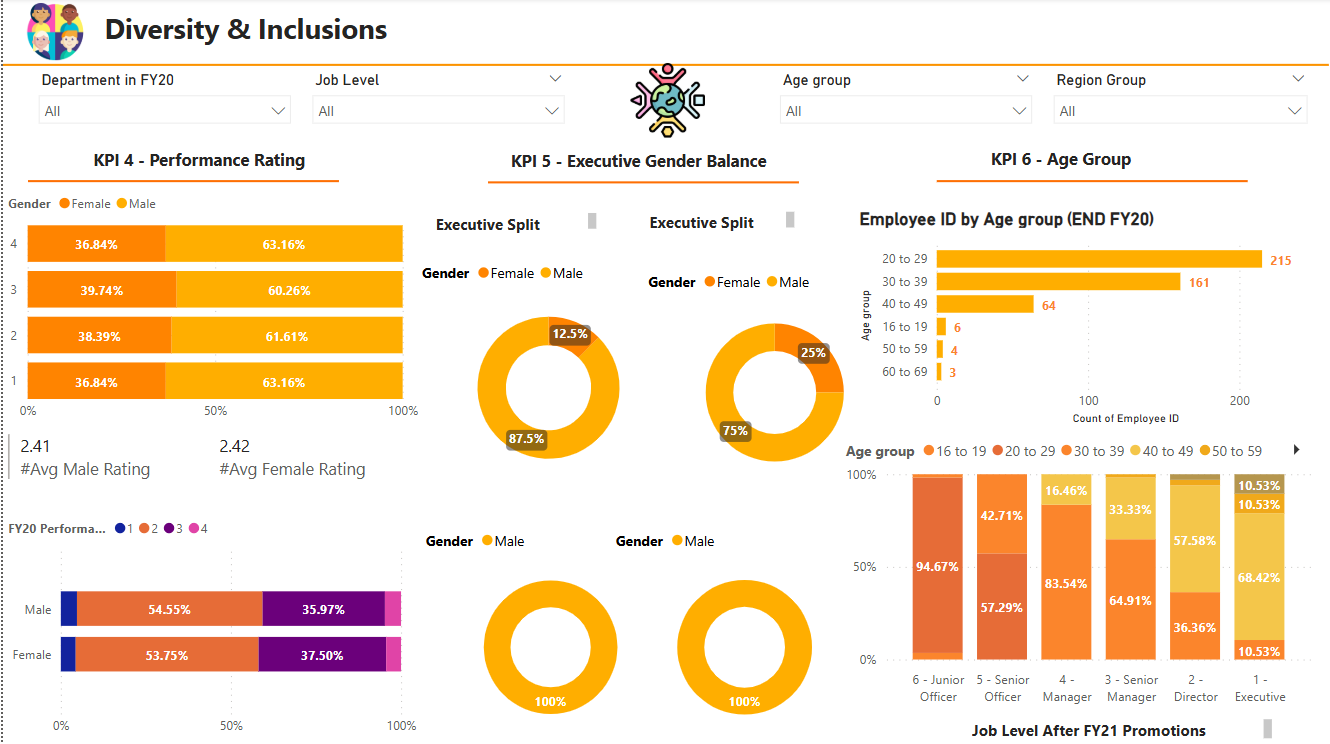

The page's visual inventory and layout, read from the dashboard file:
{"tool":"powerbi","page":{"name":"Page 2","canvas":[1280,720],"ordinal":1},"visuals":[{"type":"textbox","box":[49.7,0,1179.8,51],"z":0},{"type":"slicer","fields":{"Values":["Pharma Group AG.Last Department in FY20"]},"box":[24.7,64.8,263.8,64.8],"z":1000},{"type":"slicer","fields":{"Values":["Pharma Group AG.Job Level after FY21 promotions"]},"box":[288.5,64.8,263.8,64.8],"z":2000},{"type":"slicer","fields":{"Values":["Pharma Group AG.Age group"]},"box":[739.1,64.8,263.8,64.8],"z":3000},{"type":"slicer","fields":{"Values":["Pharma Group AG.Broad region group: nationality 1"]},"box":[1002.9,64.8,265.4,64.8],"z":4000},{"type":"textbox","box":[81.8,140.4,240.7,38.6],"z":5000},{"type":"hundredPercentStackedBarChart","fields":{"Category":["Pharma Group AG.FY20 Performance Rating"],"Y":["CountNonNull(Pharma Group AG.Employee ID)"],"Series":["Pharma Group AG.Gender"]},"box":[0,179,405.8,237.6],"z":6000},{"type":"textbox","box":[452.1,140.4,268.5,38.6],"z":7000},{"type":"textbox","box":[901.1,146.6,203.7,40.1],"z":8000},{"type":"multiRowCard","fields":{"Values":["Pharma Group AG.#Avg Male Rating","Pharma Group AG.#Avg Female Rating"]},"box":[0,416.6,405.8,61.7],"z":9000},{"type":"hundredPercentStackedBarChart","fields":{"Category":["Pharma Group AG.Gender"],"Series":["Pharma Group AG.FY20 Performance Rating"],"Y":["CountNonNull(Pharma Group AG.Employee ID)"]},"box":[0,492.2,404.2,228.4],"z":10000},{"type":"donutChart","fields":{"Y":["Divide(CountNonNull(Pharma Group AG.Employee ID), ScopedEval(CountNonNull(Pharma Group AG.Employee ID), []))"],"Series":["Pharma Group AG.Gender"]},"box":[399.6,245.3,254.6,233],"z":11000},{"type":"donutChart","fields":{"Y":["Divide(CountNonNull(Pharma Group AG.Employee ID), ScopedEval(CountNonNull(Pharma Group AG.Employee ID), []))"],"Series":["Pharma Group AG.Gender"]},"box":[617.2,253,254.6,225.3],"z":12000},{"type":"donutChart","fields":{"Series":["Pharma Group AG.Gender"],"Y":["CountNonNull(Pharma Group AG.Employee ID)"]},"box":[402.7,503,251.5,217.6],"z":13000},{"type":"donutChart","fields":{"Y":["Divide(CountNonNull(Pharma Group AG.Employee ID), ScopedEval(CountNonNull(Pharma Group AG.Employee ID), []))"],"Series":["Pharma Group AG.Gender"]},"box":[586.3,503,259.2,217.6],"z":14000},{"type":"textbox","box":[412,202.1,165.1,30.9],"z":15000},{"type":"textbox","box":[640.3,186.7,149.7,30.9],"z":16000},{"type":"barChart","title":"Employee ID by Age group (END FY20)","fields":{"Y":["CountNonNull(Pharma Group AG.Employee ID)"],"Category":["Pharma Group AG.Age group"]},"box":[820.8,202.1,459.8,214.5],"z":17000},{"type":"hundredPercentStackedColumnChart","title":"Employee ID by Age group (END FY20)","fields":{"Category":["Pharma Group AG.Job Level after FY21 promotions"],"Y":["CountNonNull(Pharma Group AG.Employee ID)"],"Series":["Pharma Group AG.Age group"]},"box":[808.5,416.6,459.8,273.1],"z":18000},{"type":"textbox","box":[930.4,691.2,299.3,29.3],"z":19000},{"type":"shape","box":[0,39.8,1279.6,25.3],"z":20000},{"type":"image","box":[578.9,57.9,124.2,82],"z":20001}]}

Visuals, with their boxes in screenshot pixels (x1, y1, x2, y2), scaled from the page's 1280x720 canvas onto the 1330x744 screenshot:
textbox: bbox=[52, 0, 1278, 53]
slicer - Pharma Group AG.Last Department in FY20: bbox=[26, 67, 300, 134]
slicer - Pharma Group AG.Job Level after FY21 promotions: bbox=[300, 67, 574, 134]
slicer - Pharma Group AG.Age group: bbox=[768, 67, 1042, 134]
slicer - Pharma Group AG.Broad region group: nationality 1: bbox=[1042, 67, 1318, 134]
textbox: bbox=[85, 145, 335, 185]
hundredPercentStackedBarChart - Pharma Group AG.FY20 Performance Rating x CountNonNull(Pharma Group AG.Employee ID): bbox=[0, 185, 422, 430]
textbox: bbox=[470, 145, 749, 185]
textbox: bbox=[936, 151, 1148, 193]
multiRowCard - Pharma Group AG.#Avg Male Rating x Pharma Group AG.#Avg Female Rating: bbox=[0, 430, 422, 494]
hundredPercentStackedBarChart - Pharma Group AG.Gender x Pharma Group AG.FY20 Performance Rating: bbox=[0, 509, 420, 743]
donutChart - Divide(CountNonNull(Pharma Group AG.Employee ID), ScopedEval(CountNonNull(Pharma Group AG.Employee ID), [])) x Pharma Group AG.Gender: bbox=[415, 253, 680, 494]
donutChart - Divide(CountNonNull(Pharma Group AG.Employee ID), ScopedEval(CountNonNull(Pharma Group AG.Employee ID), [])) x Pharma Group AG.Gender: bbox=[641, 261, 906, 494]
donutChart - Pharma Group AG.Gender x CountNonNull(Pharma Group AG.Employee ID): bbox=[418, 520, 680, 743]
donutChart - Divide(CountNonNull(Pharma Group AG.Employee ID), ScopedEval(CountNonNull(Pharma Group AG.Employee ID), [])) x Pharma Group AG.Gender: bbox=[609, 520, 879, 743]
textbox: bbox=[428, 209, 600, 241]
textbox: bbox=[665, 193, 821, 225]
"Employee ID by Age group (END FY20)" barChart: bbox=[853, 209, 1329, 430]
"Employee ID by Age group (END FY20)" hundredPercentStackedColumnChart: bbox=[840, 430, 1318, 713]
textbox: bbox=[967, 714, 1278, 743]
shape: bbox=[0, 41, 1329, 67]
image: bbox=[602, 60, 731, 145]
